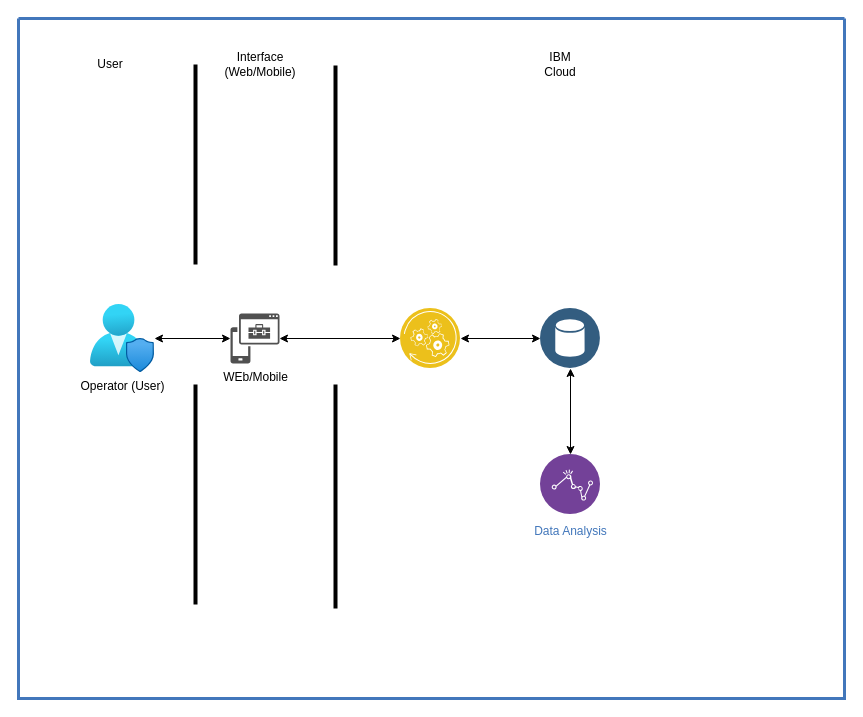
This 863x717 diagram has some shape labels left out. Here are the shapes that lost their labels. From the top down, the centre of each, then its label:
At [430,338]: "API".
At [570,338]: "Database".
